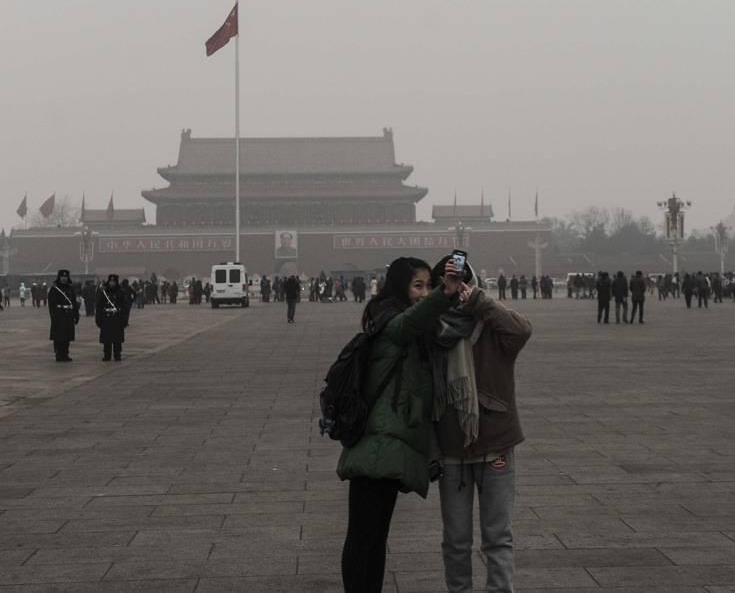car: (210, 261, 249, 308)
person: (317, 254, 466, 592), (419, 252, 533, 593), (94, 272, 131, 362), (46, 268, 81, 361), (612, 268, 631, 324), (595, 270, 615, 323), (629, 269, 647, 323), (285, 273, 301, 322)
